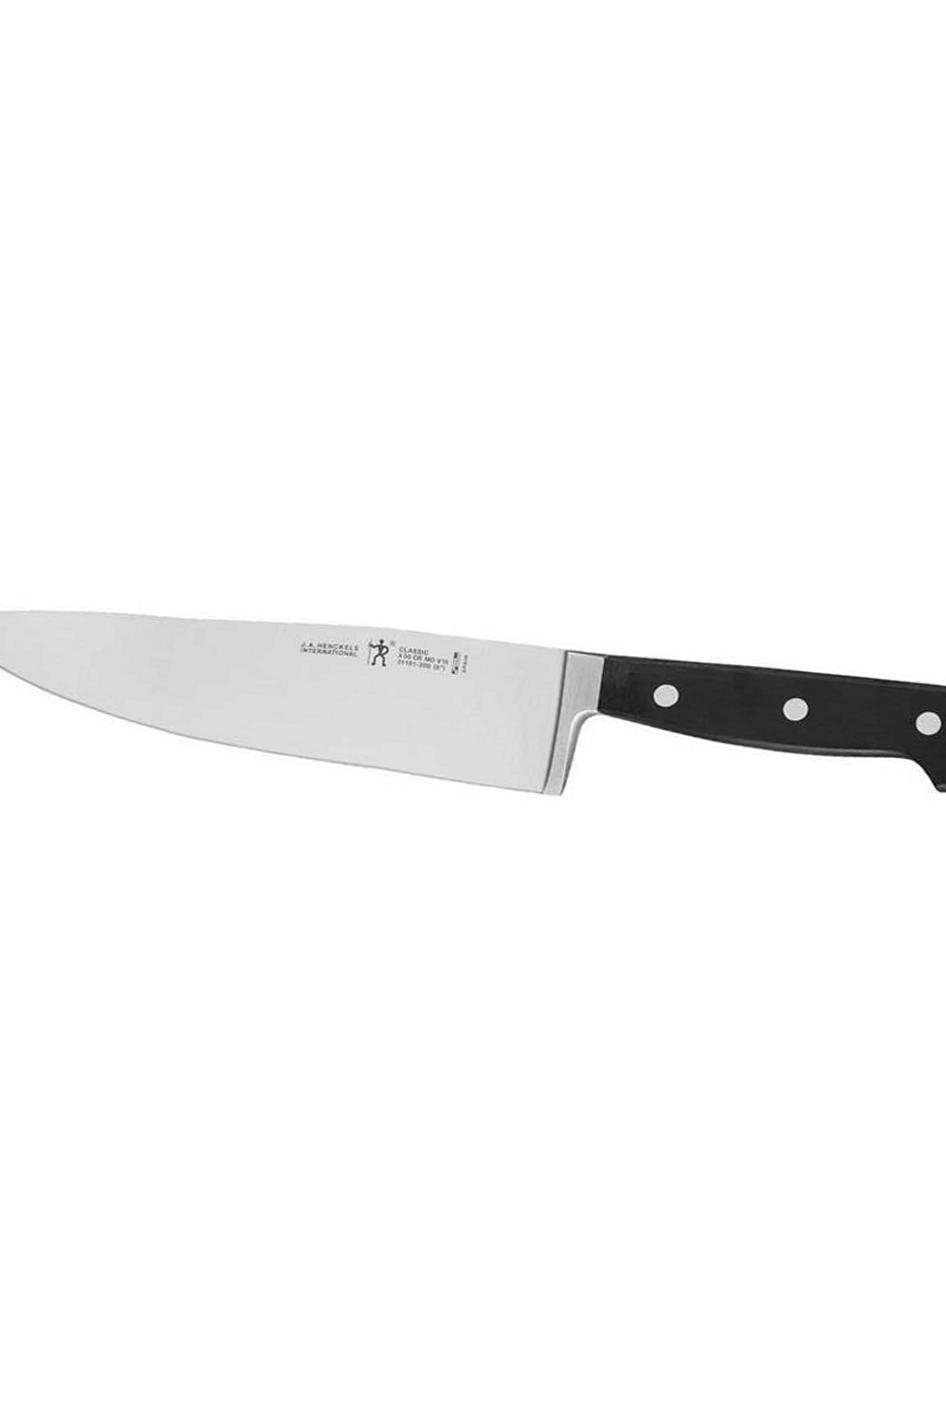knife: (2, 599, 945, 802)
